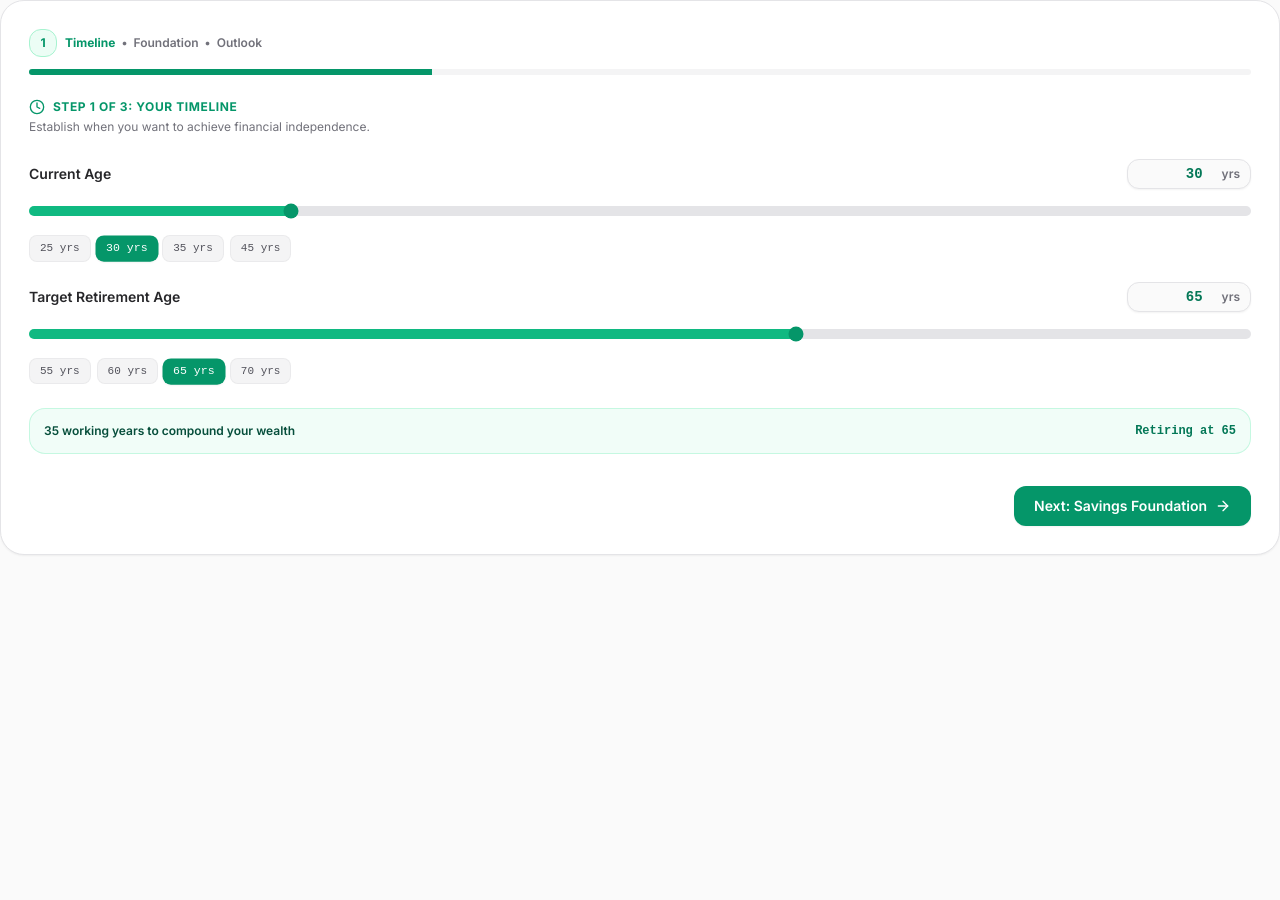
Scenario: RetirementWizard › supports Back button navigation
This screenshot has width=1280, height=900.
Step 1. Click the button "Next: Savings Foundation" → [1132, 506], box [1014,486,1251,526]
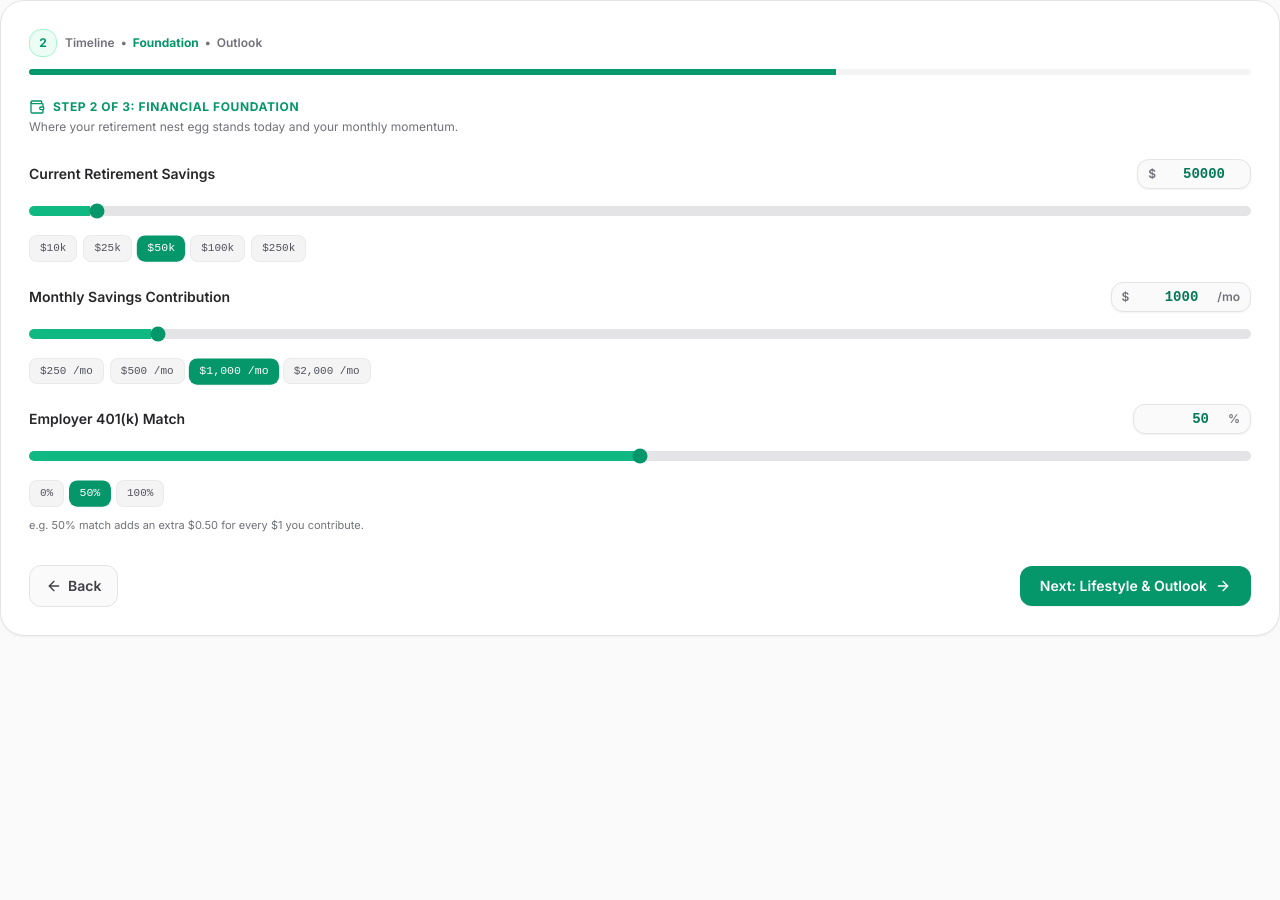
Now the text "Step 2 of 3: Financial Foundation" is shown, box [53,99,299,115]
Step 2. Click the button "Back" → [74, 586], box [29,565,118,607]
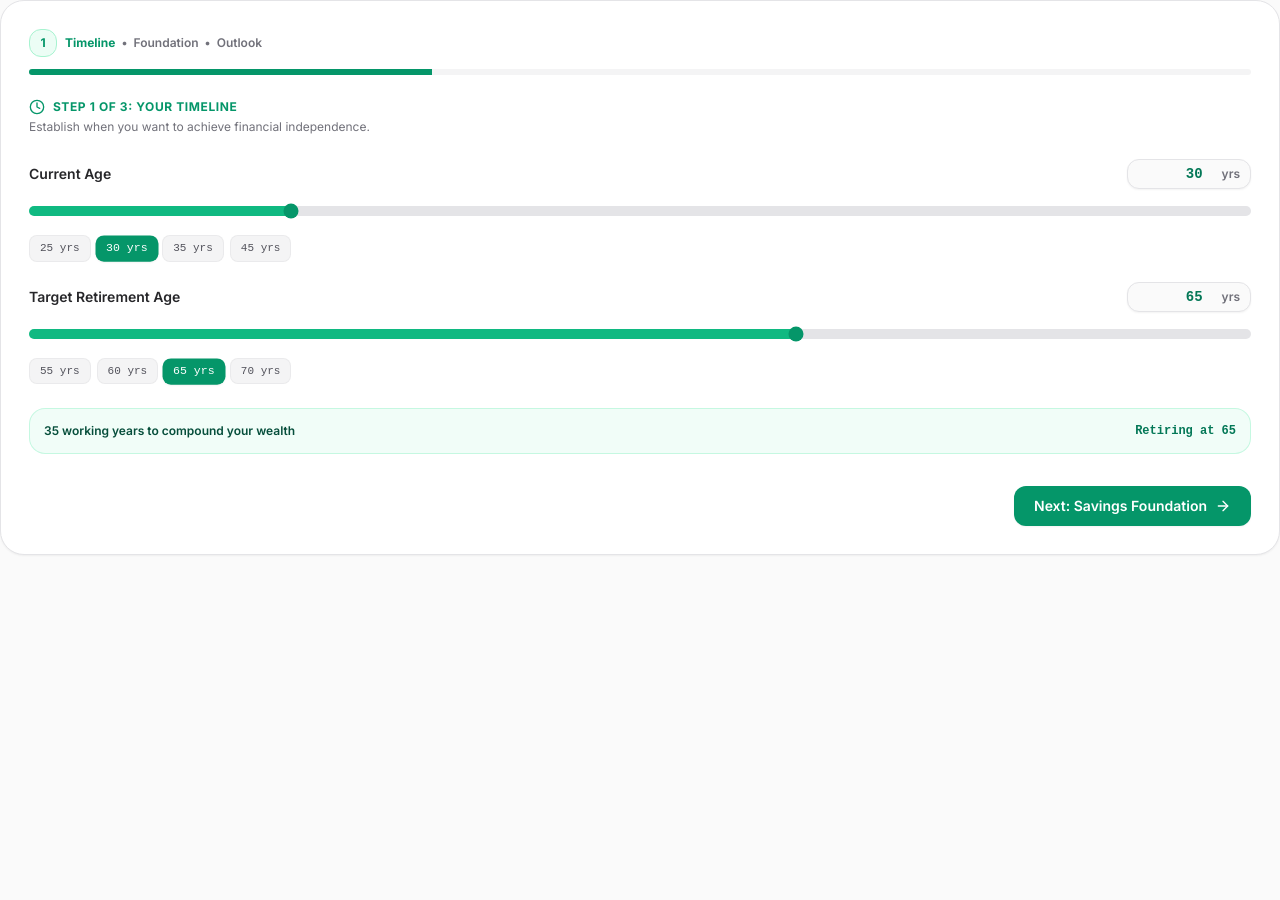
Now the text "Step 1 of 3: Your Timeline" is shown, box [53,99,238,115]
